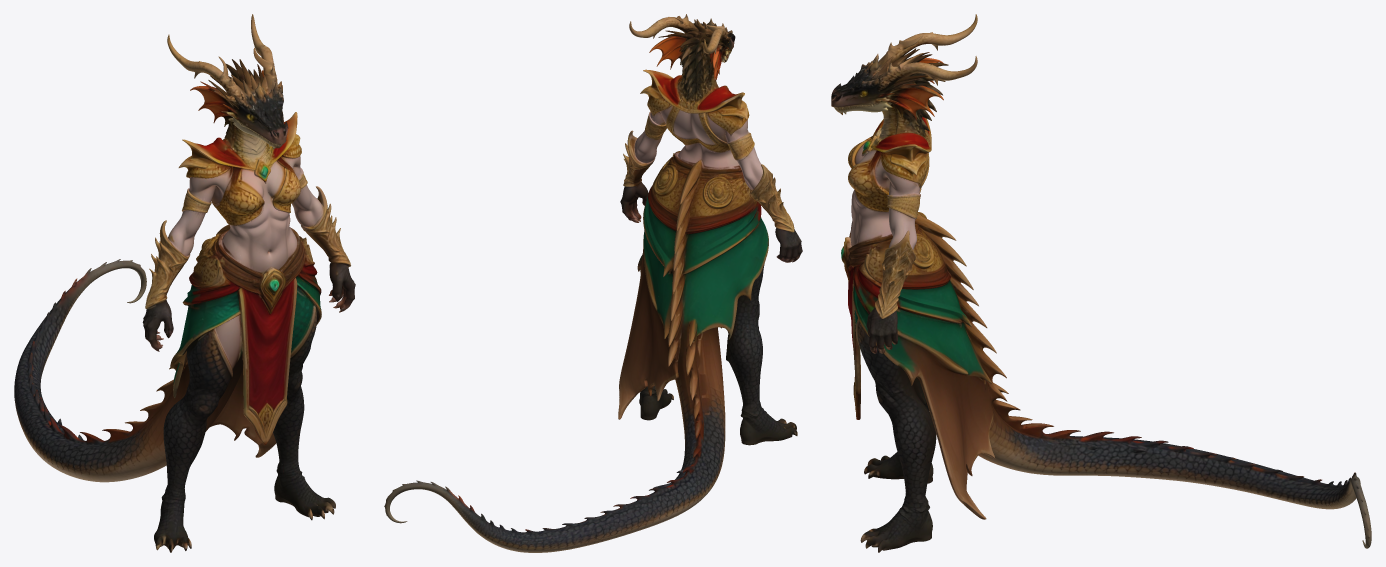
Rendered from dragonborn_cleric_full_female_01.glb.
The picture shows the model from 3 angles, left to right: view 1: azimuth 30°, elevation 25°; view 2: azimuth 150°, elevation 25°; view 3: azimuth 270°, elevation 25°; orthographic projection. The views are drawn at different scales.
Visible parts, largest first — view 1: material; view 2: material; view 3: material.
Boxes of the visible parts, left/top/right/bottom form: material: left=14, top=14, right=355, bottom=552; material: left=384, top=14, right=802, bottom=552; material: left=831, top=14, right=1371, bottom=552.
Size of the model in its own units: 0.4415 by 0.8438 by 0.8582.
1 material, 1 textured.
